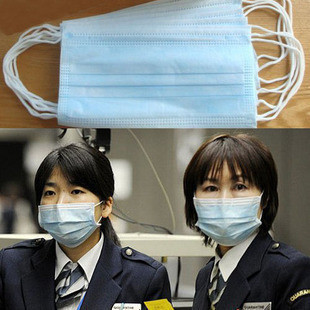face_mask: (194, 162, 259, 243), (39, 163, 99, 242)
